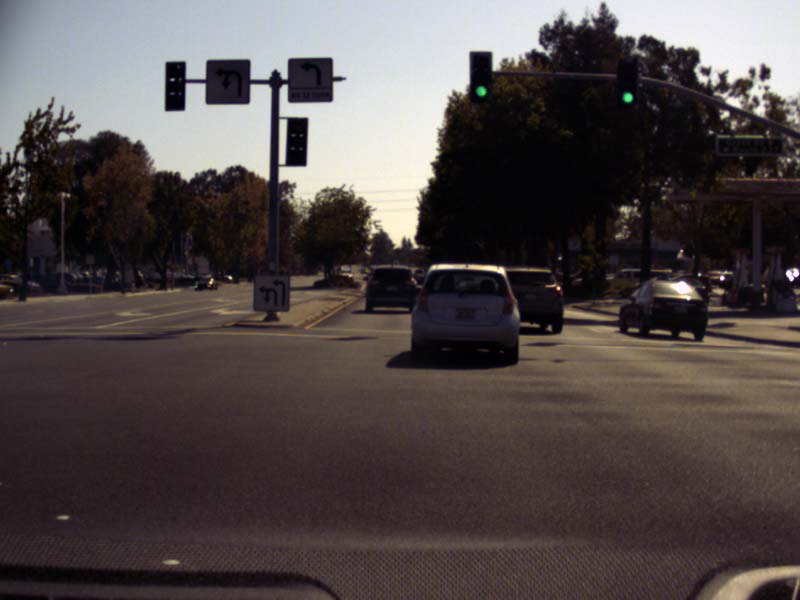Green: (470, 51, 489, 102), (617, 58, 636, 106)
